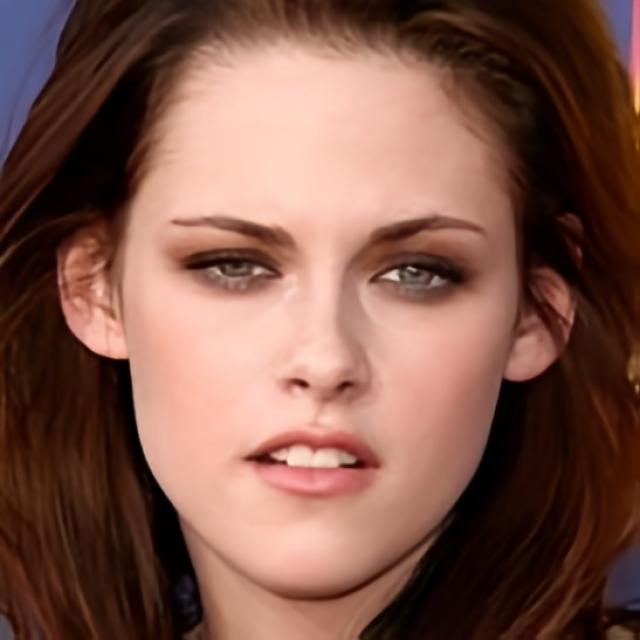disgust: (120, 21, 519, 599)
